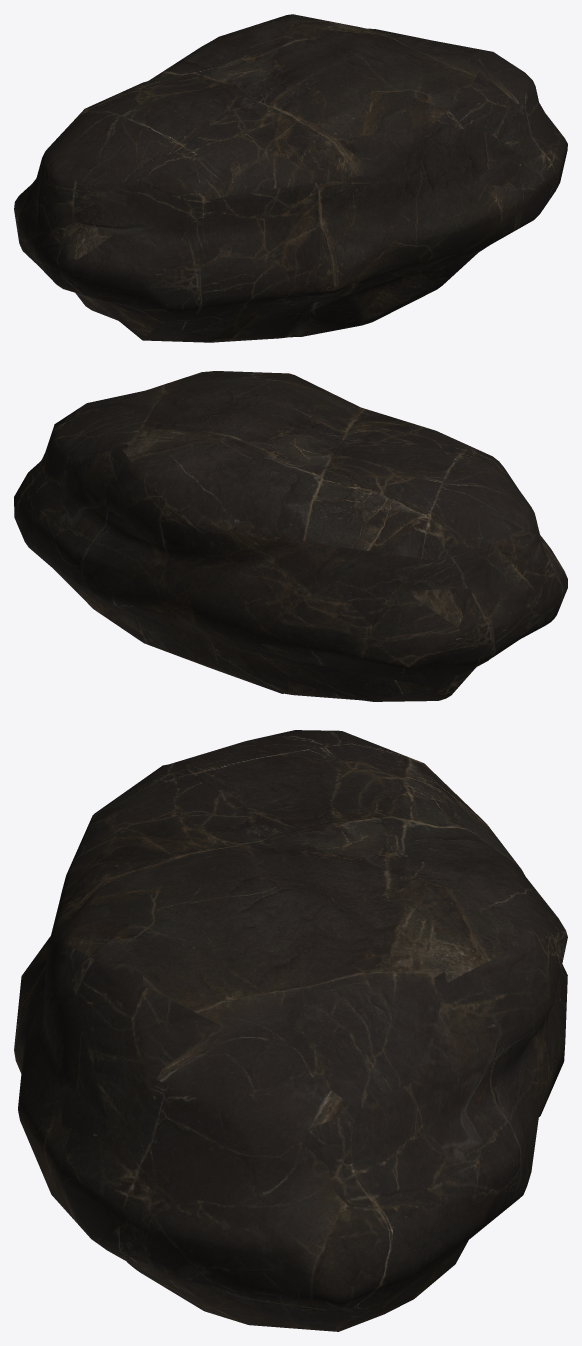
The model's file is ravine_boulder_c.glb.
3 views of the same model, one above another, from view 1: azimuth 30°, elevation 25°; view 2: azimuth 150°, elevation 25°; view 3: azimuth 270°, elevation 25° (orthographic). The views are drawn at different scales.
Visible parts, largest first — view 1: ravine_boulder_c; view 2: ravine_boulder_c; view 3: ravine_boulder_c.
Boxes of the visible parts, bbox=[...] form: ravine_boulder_c: bbox=[14, 14, 567, 342]; ravine_boulder_c: bbox=[14, 371, 567, 701]; ravine_boulder_c: bbox=[14, 730, 567, 1331].
Size of the model in its own units: 2.64 by 1.15 by 1.51.
1 material, 1 textured.
